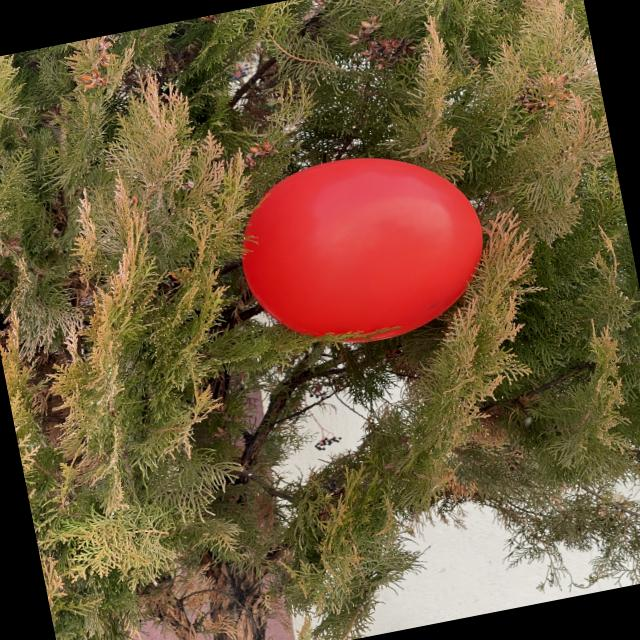balloon: (243, 158, 482, 341)
